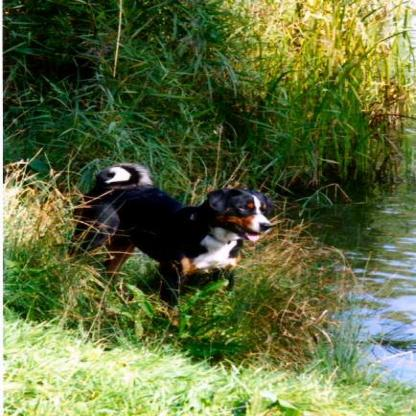EntleBucher: (68, 162, 278, 305)
